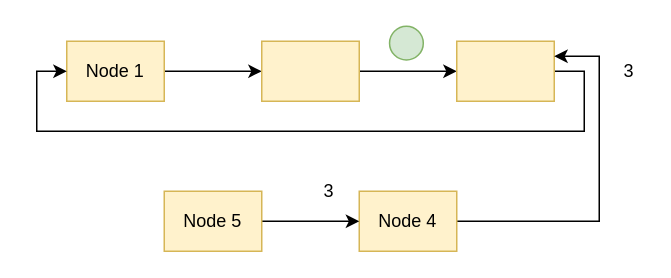
This 671x278 diagram has some shape labels left out. Each missing label, with the centre of its shape:
Node 2: the point at 309,70
Node 3: the point at 504,70
